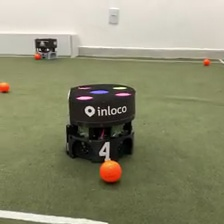ball: (98, 158, 123, 185), (1, 79, 10, 93), (202, 57, 211, 66), (33, 52, 41, 60)
goal: (1, 31, 80, 59)
robot: (63, 80, 140, 166), (31, 36, 59, 61)
